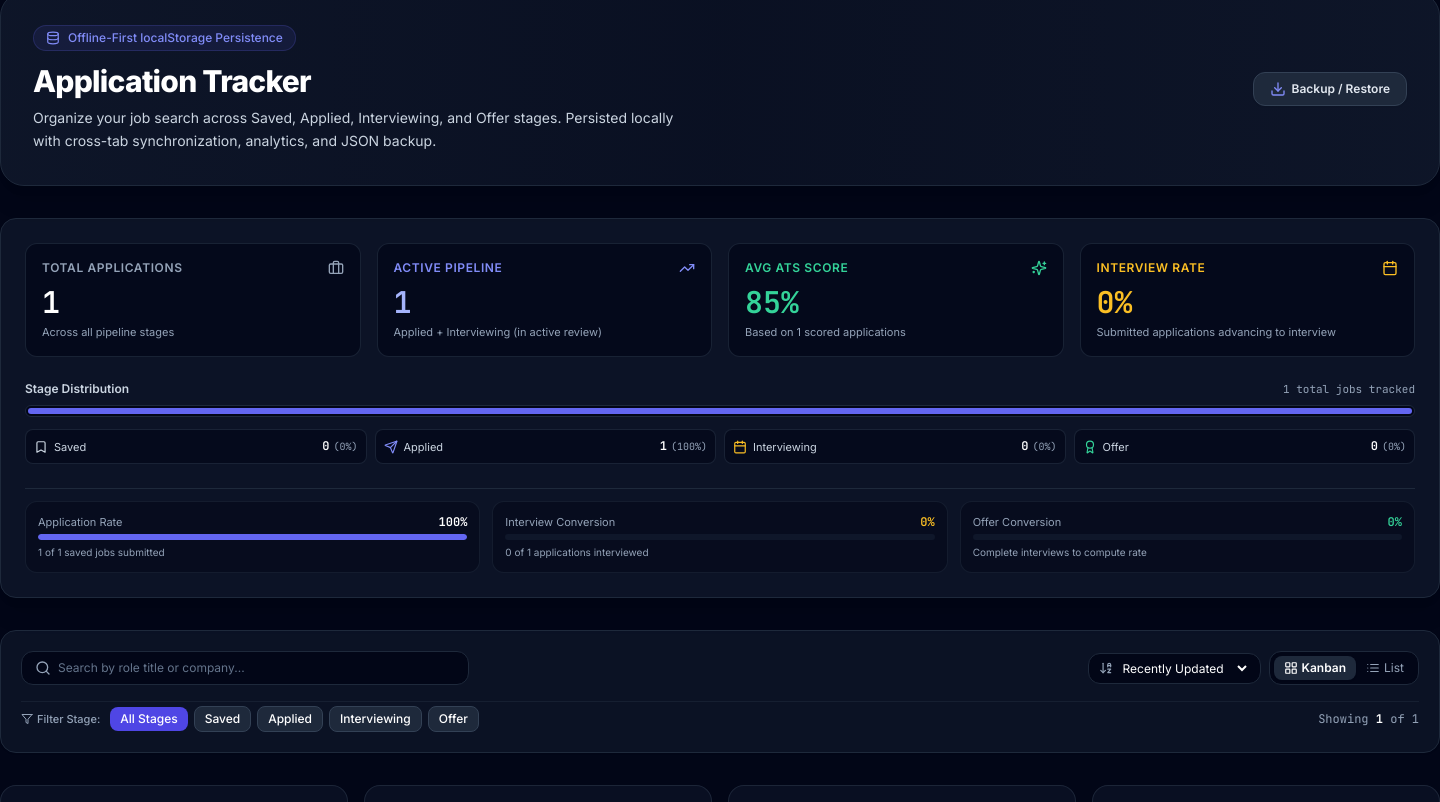
it: Module 3: Complete Application Tracker Tests › toggles between Kanban and List/Table view modes smoothly
Click List view button
Click the button "List" at x=1385, y=668, box [1356,656,1414,680]
(page scrolled)
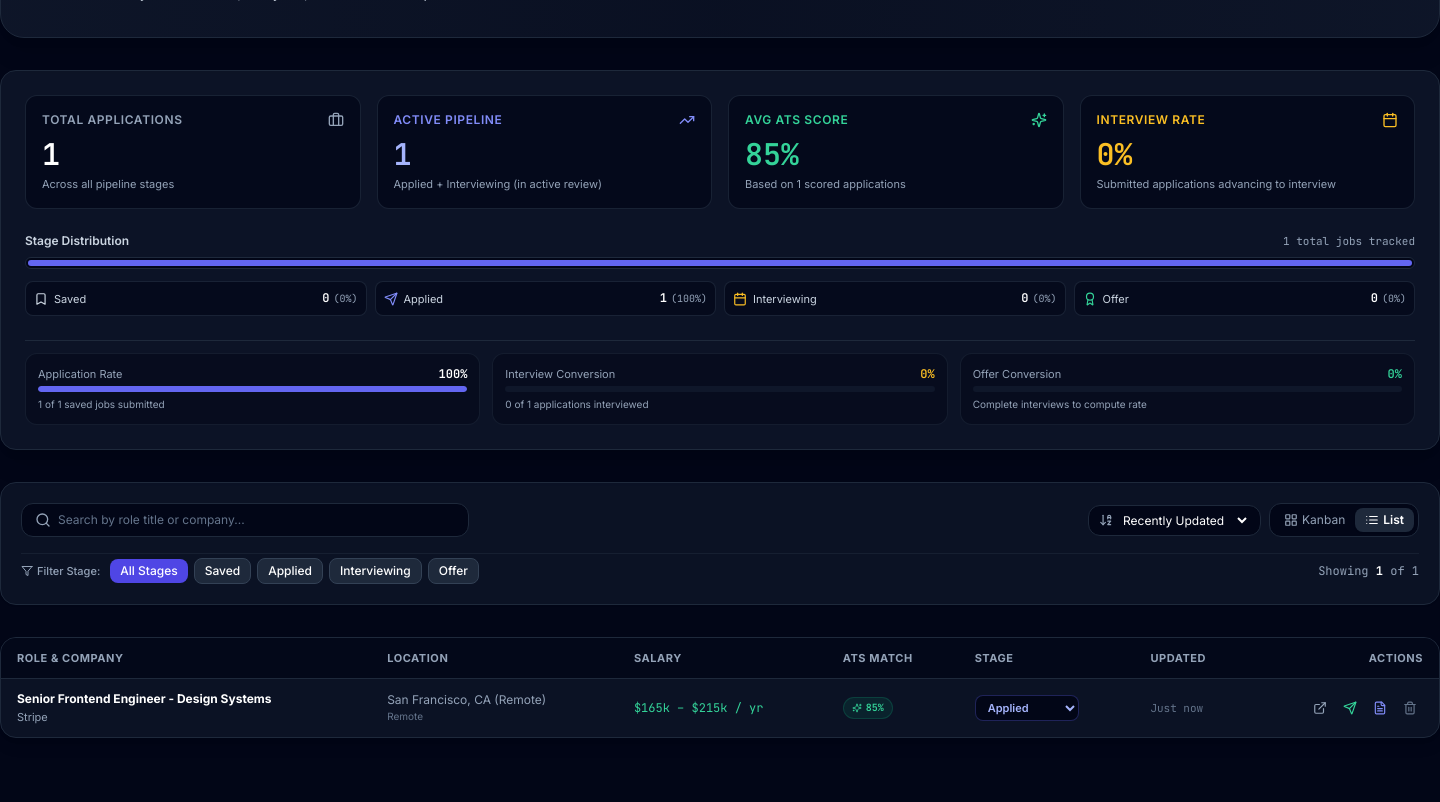
Result: the column heading "Role & Company" is shown at [1,638,371,678]
Result: the column heading "Stage" is shown at [959,638,1134,678]
